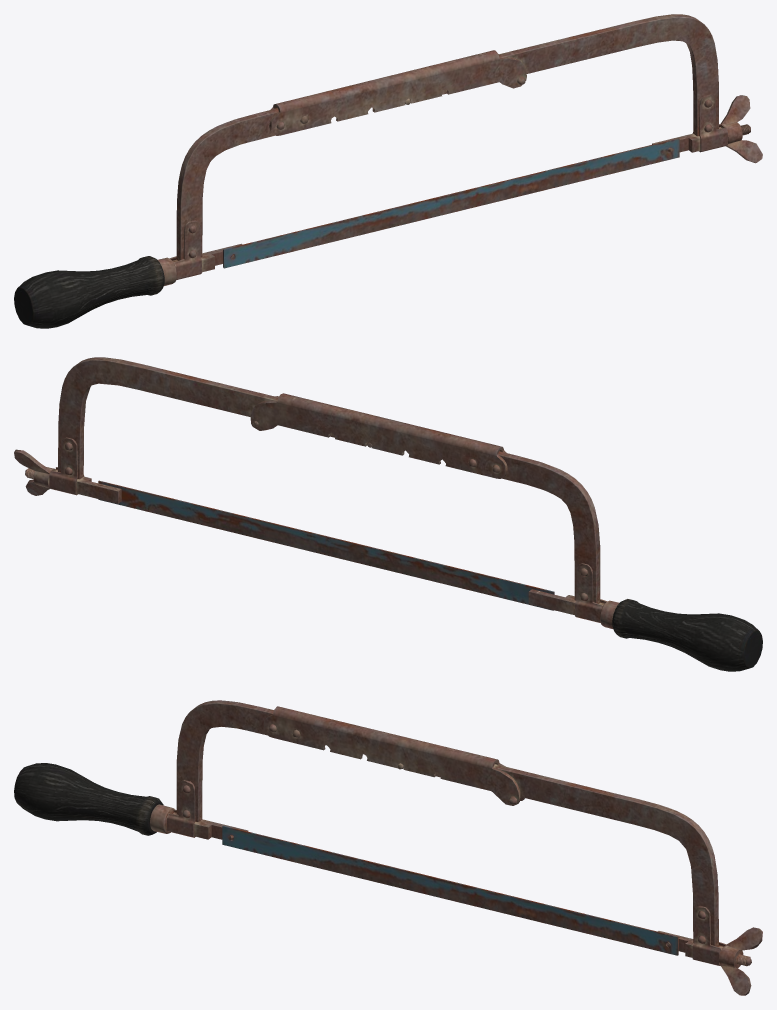
File: rusted_hacksaw.glb
The picture shows the model from 3 angles, top to bottom: view 1: azimuth 30°, elevation 25°; view 2: azimuth 150°, elevation 25°; view 3: azimuth 330°, elevation 25°; orthographic projection.
Parts seen in each view (by area): view 1: rusted_hacksaw; view 2: rusted_hacksaw; view 3: rusted_hacksaw.
Boxes of the visible parts, bbox=[...] form: rusted_hacksaw: bbox=[14, 14, 762, 328]; rusted_hacksaw: bbox=[14, 357, 762, 671]; rusted_hacksaw: bbox=[14, 700, 762, 995].
Size of the model in its own units: 0.4963 by 0.1094 by 0.0328.
1 material, 1 textured.
